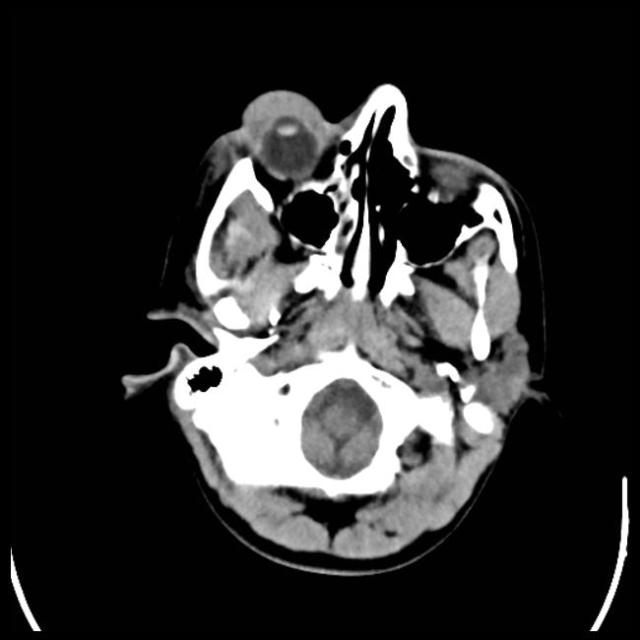lesion: (119, 79, 552, 572)
